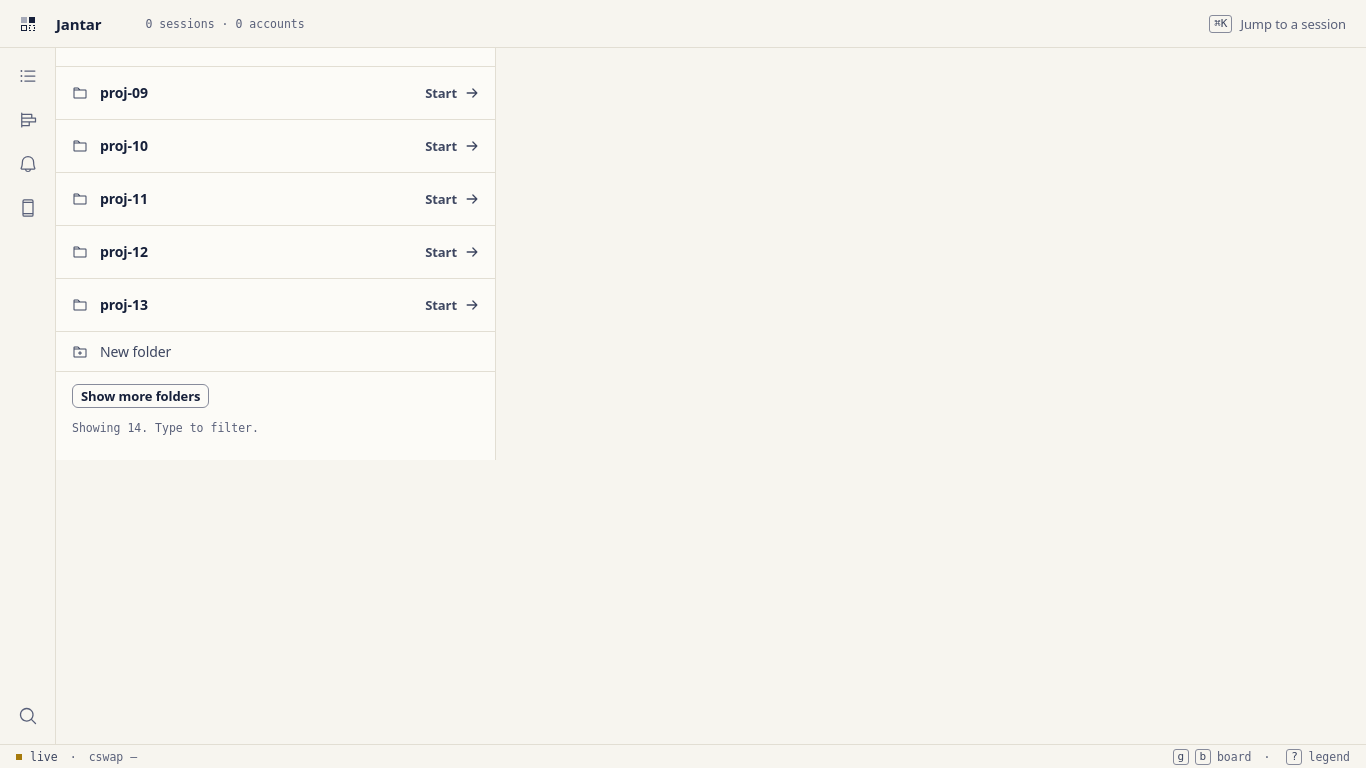
Test: folder browser: folders › pages with Show more folders, and filters a long listing as you type
(page scrolled)
Check: the text "Showing 14. Type to filter." is shown, box 72,421 -> 259,435
Click the button "Show more folders".
click(141, 396)  # box 72,384 -> 209,408
(page scrolled)
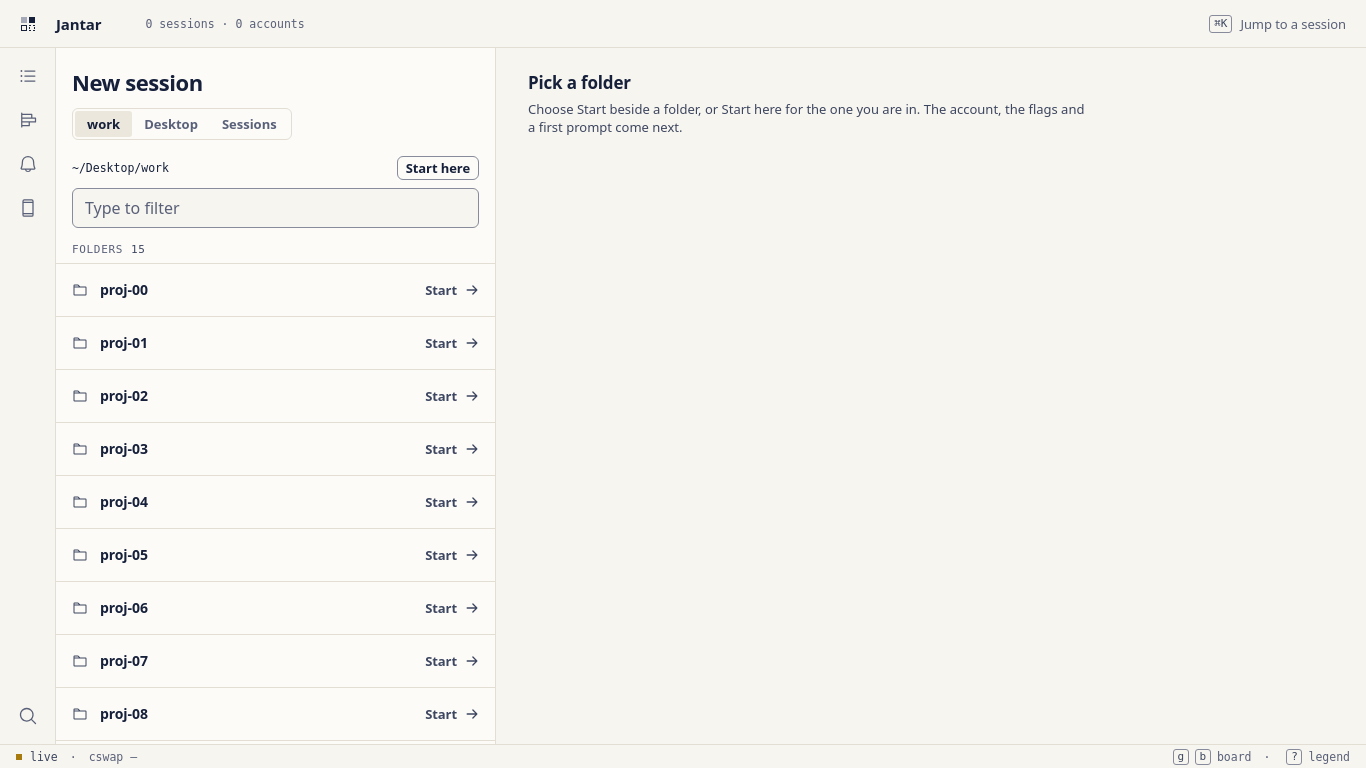
Check: the button "Show more folders" is gone
Type "ZET" into the search field named "Filter folders".
click(276, 208); type("ZET")  # box 72,188 -> 479,228
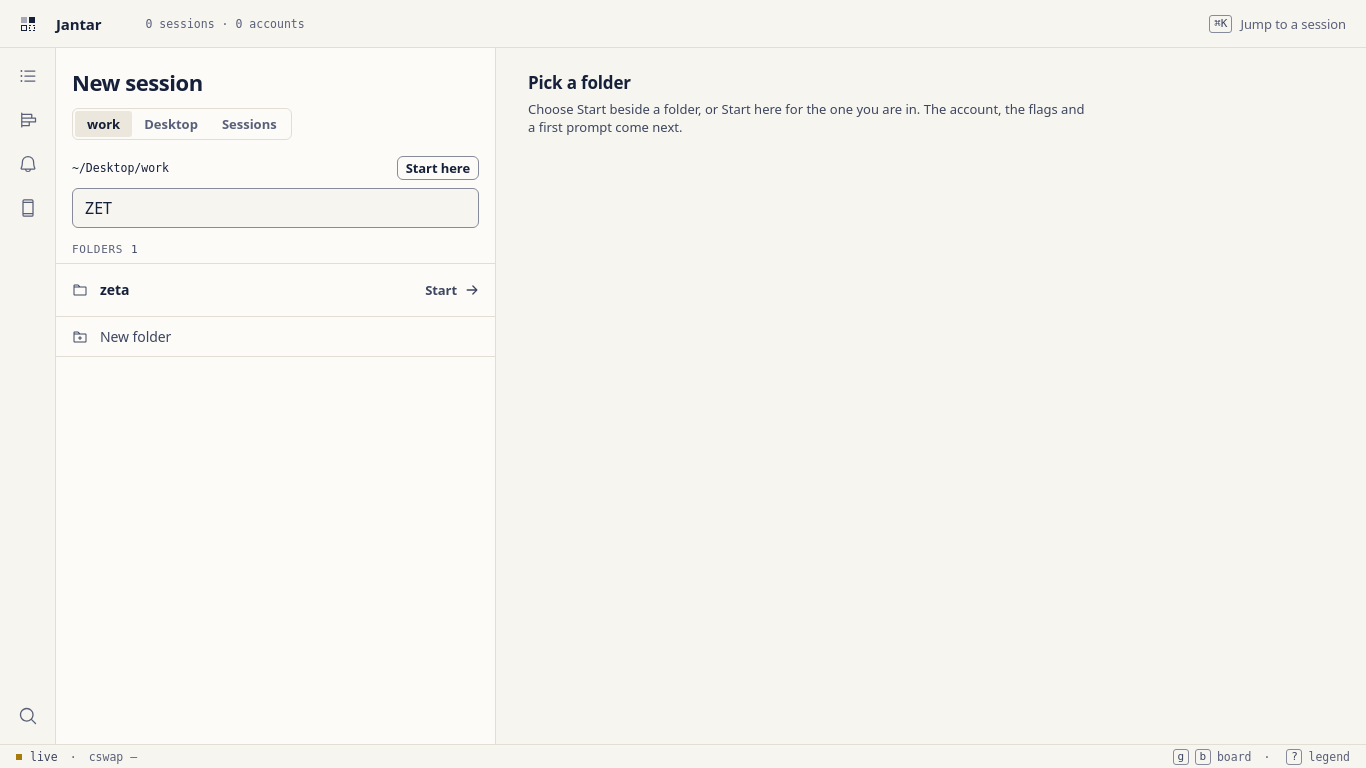
Replace the text in the search field named "Filter folders" with "nothing-like-it" at (276, 208), box 72,188 -> 479,228
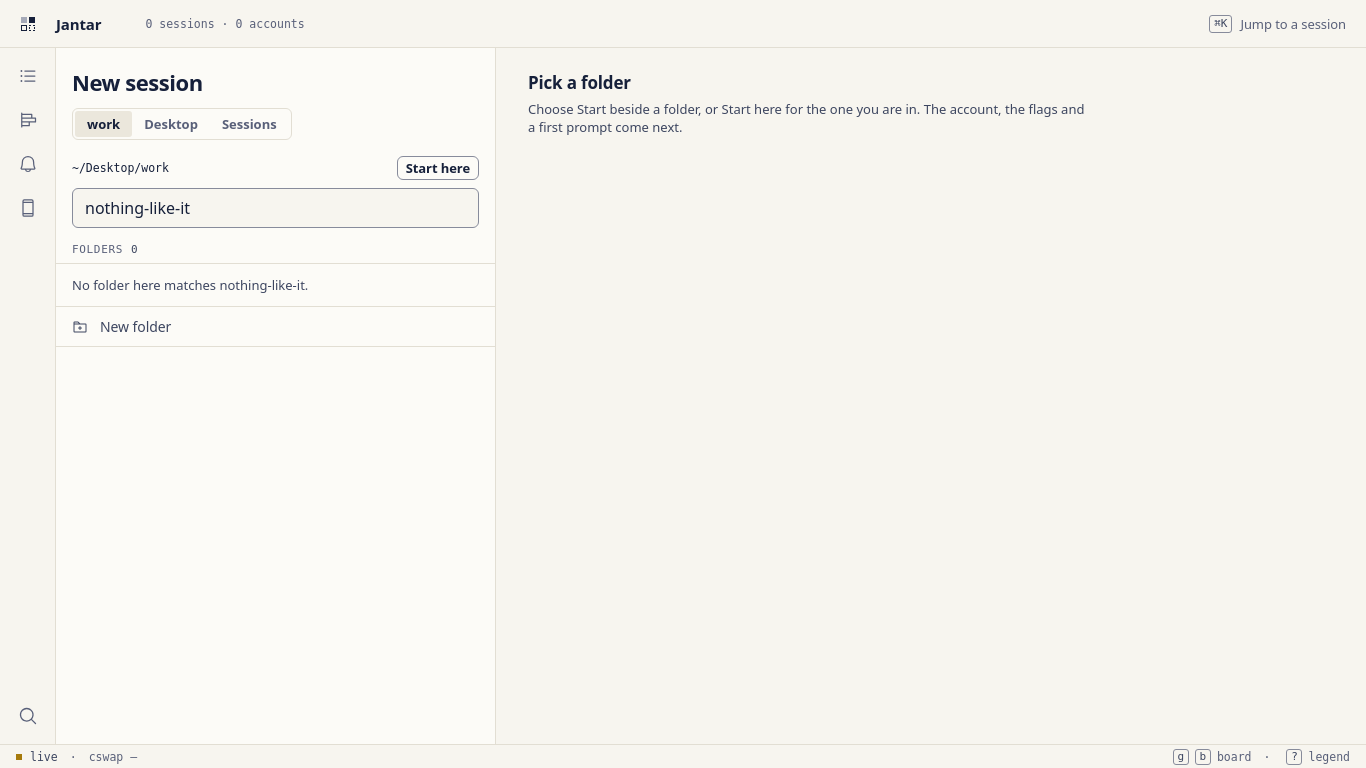
Check: the text "No folder here matches nothing-like-it." is shown, box 56,264 -> 495,307
